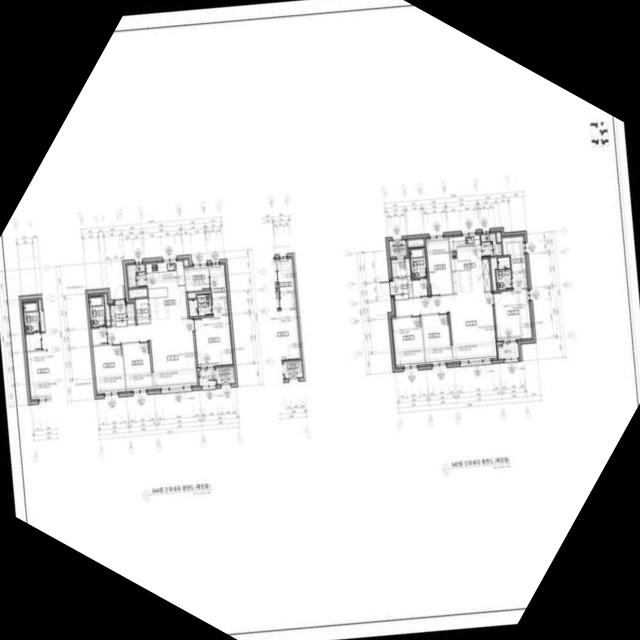background: (0, 0, 640, 640)
space_balconi: (481, 234, 502, 257), (127, 264, 147, 288), (498, 343, 519, 359), (199, 369, 216, 386)
space_bedroom: (194, 298, 233, 367), (494, 272, 532, 341), (392, 316, 425, 367), (93, 345, 126, 394), (422, 314, 452, 364), (123, 342, 153, 391)
space_dressroom: (502, 236, 526, 272), (209, 265, 227, 298)
space_front: (390, 277, 413, 300), (110, 304, 128, 327)
space_kitchen: (146, 261, 188, 321), (449, 235, 491, 294)
space_living_room: (395, 292, 497, 362), (107, 319, 198, 389)
space_other: (426, 238, 453, 295), (185, 266, 210, 291), (391, 259, 411, 277), (136, 298, 150, 323), (413, 280, 429, 297), (92, 328, 108, 345), (104, 294, 111, 326), (491, 258, 497, 291), (129, 288, 147, 299), (127, 304, 135, 324), (188, 291, 210, 298), (408, 240, 424, 247), (496, 233, 501, 242), (184, 260, 188, 266)
space_outdoor_room: (216, 367, 235, 385), (389, 240, 407, 257)
space_toilet: (496, 257, 512, 290), (89, 296, 106, 327), (410, 248, 427, 279), (189, 295, 212, 317)
